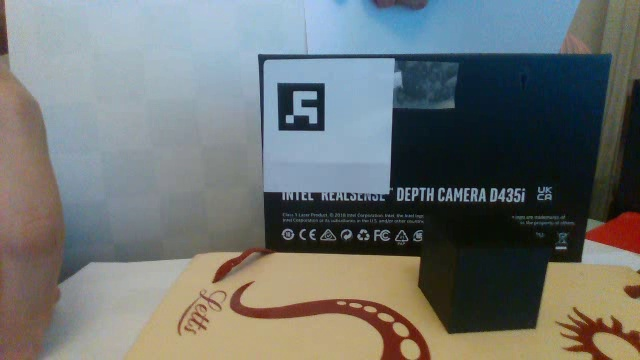cube: (413, 200, 553, 338)
